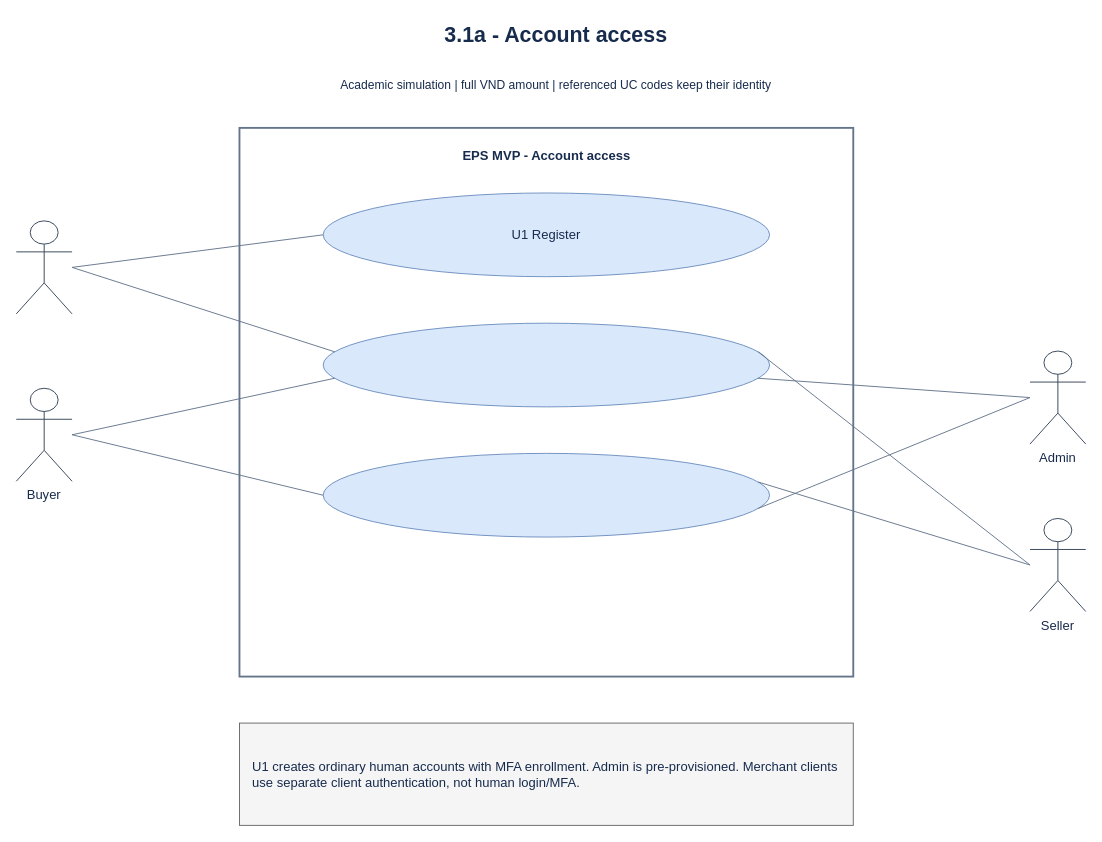
This 1102x842 diagram has some shape labels left out. Each missing label, with the box of its shape:
Guest: (15, 220, 72, 314)
U2 Login with MFA: (322, 322, 770, 407)
U3 Logout: (322, 452, 770, 537)
